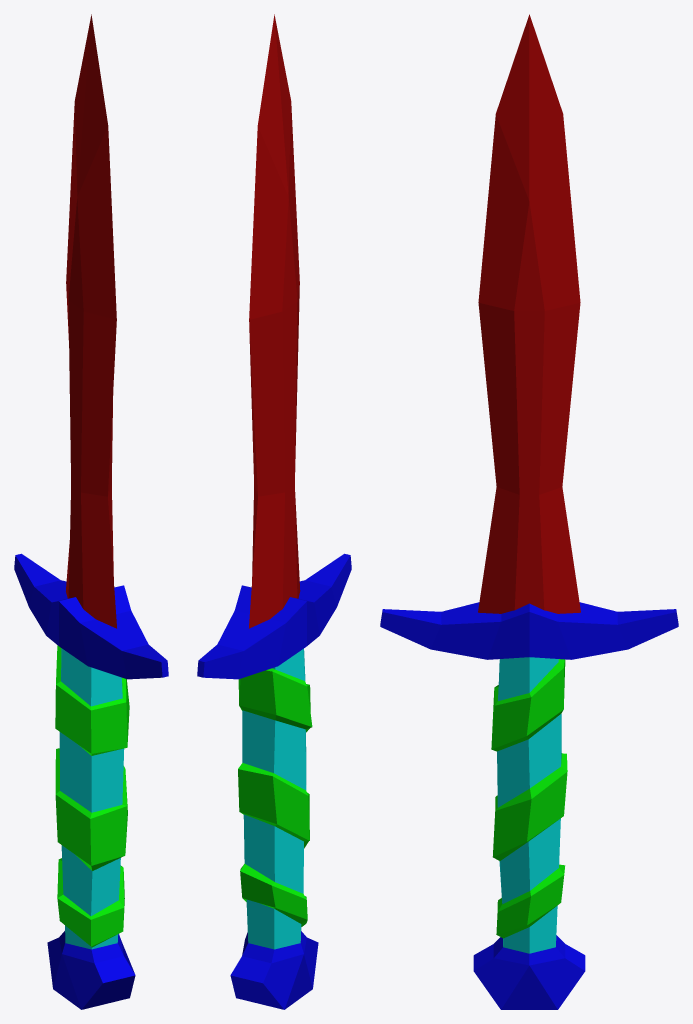
File: Dagger_Legendary_Stiletto.fbx
3 views of the same model, side by side, from view 1: azimuth 30°, elevation 25°; view 2: azimuth 150°, elevation 25°; view 3: azimuth 270°, elevation 25° (orthographic).
Visible parts, largest first — view 1: SM_Wep_Dagger_01; view 2: SM_Wep_Dagger_01; view 3: SM_Wep_Dagger_01.
Boxes of the visible parts, x1=… form: SM_Wep_Dagger_01: x1=14, y1=14, x2=168, y2=1009; SM_Wep_Dagger_01: x1=197, y1=14, x2=351, y2=1009; SM_Wep_Dagger_01: x1=380, y1=14, x2=678, y2=1009.
Size of the model in its own units: 5.43 by 68.81 by 18.9.
